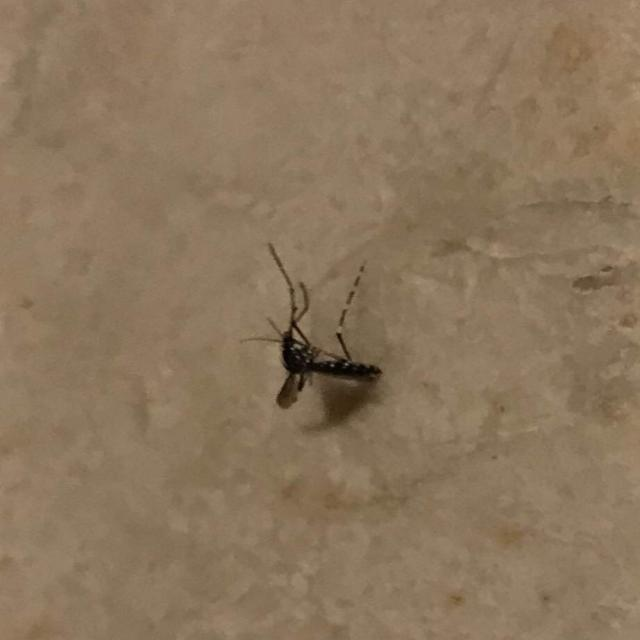albopictus: (224, 241, 392, 408)
